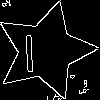I: (20, 26, 38, 72)
